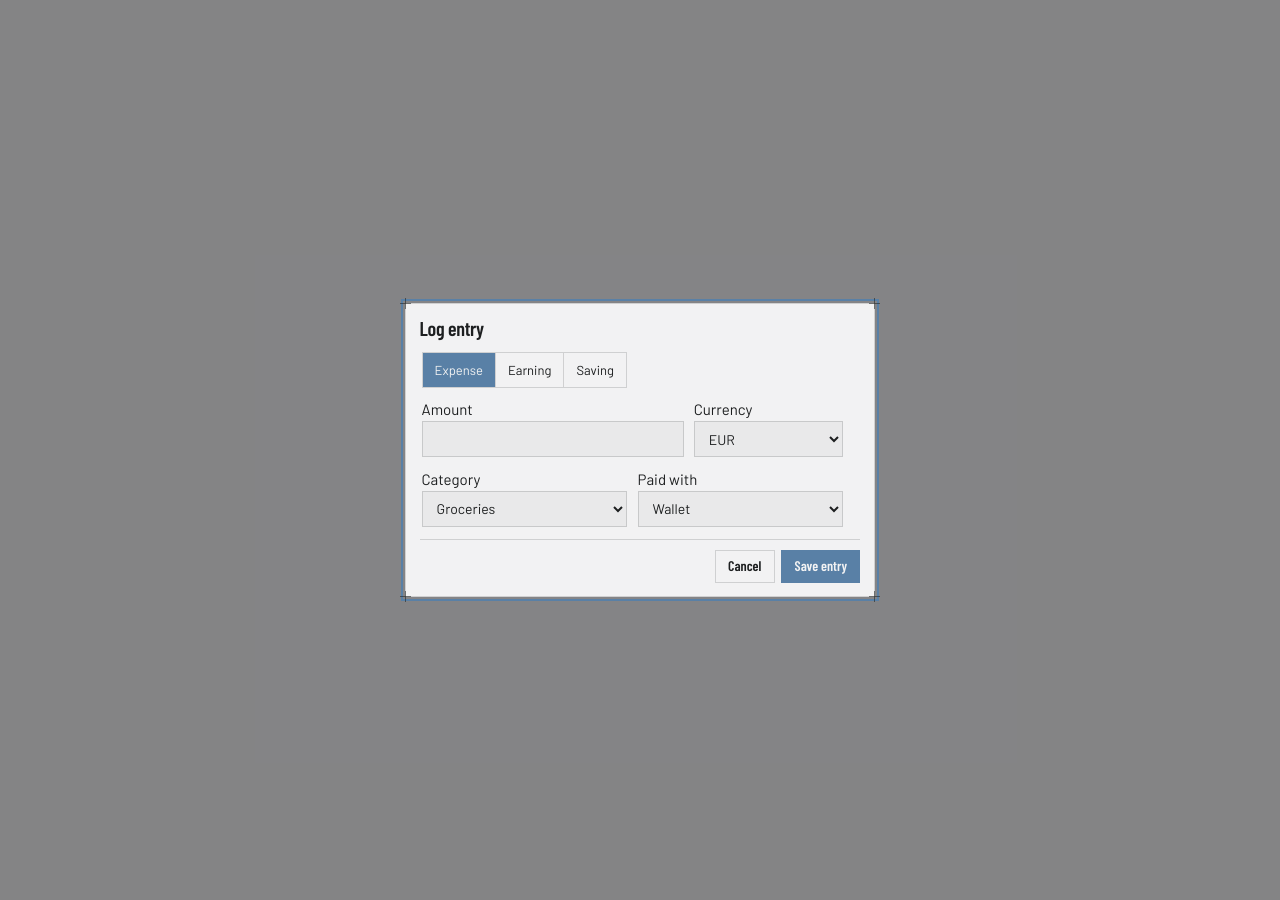
LogEntryForm - financing › offers to record an earning as a loan, because borrowing is not income (BR-2)
Click the radio button labelled "Earning" at (529, 370), box [495,353,563,387]
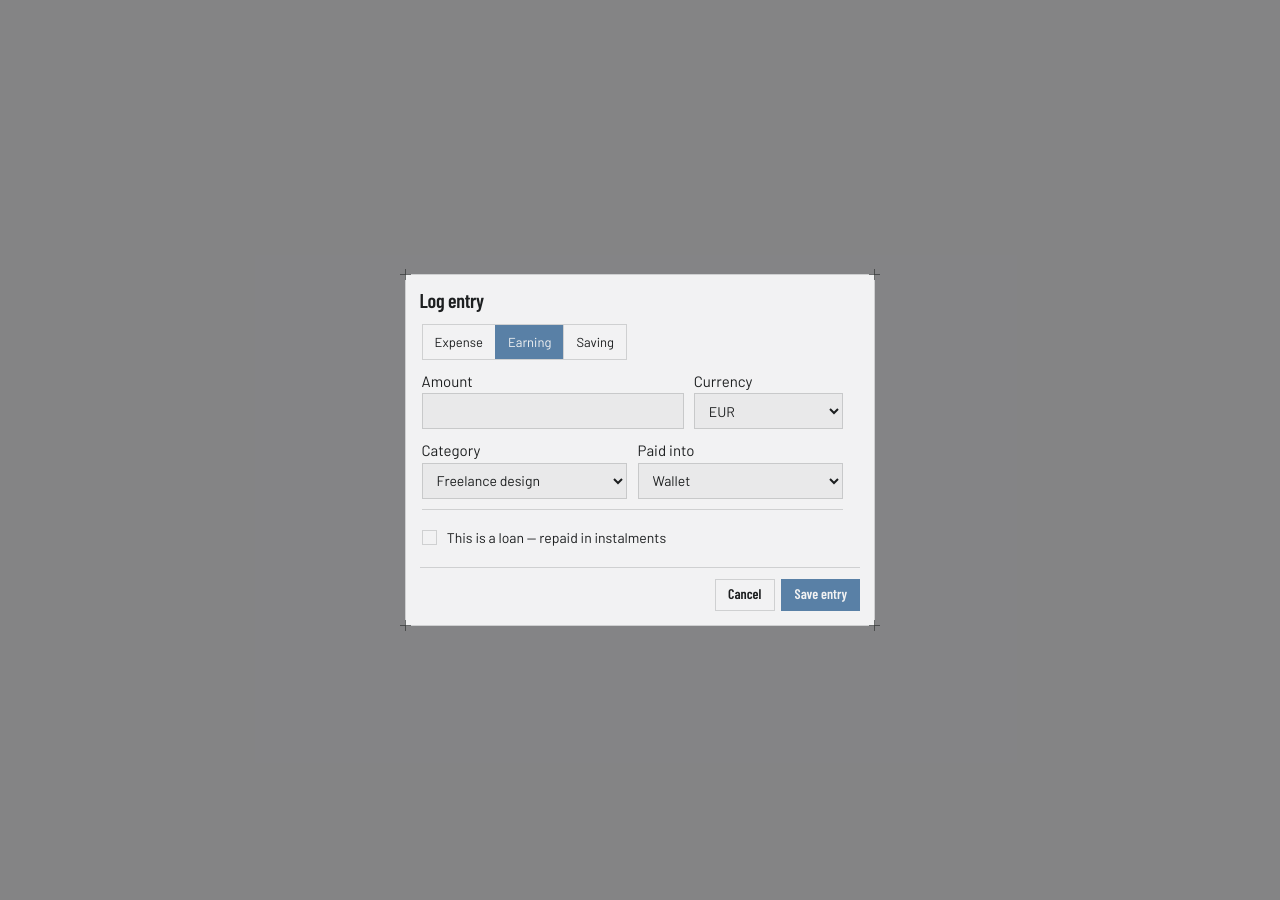
Check: the checkbox labelled "This is a loan — repaid in instalments" is shown, box [422,529,666,546]
